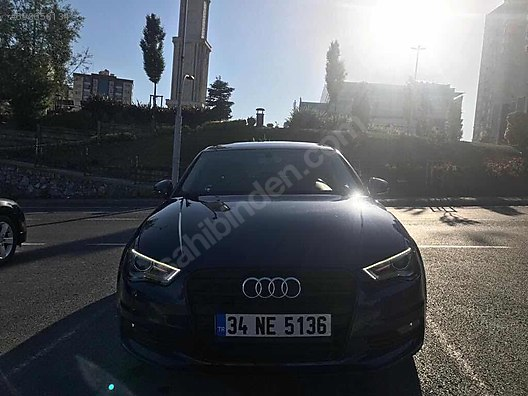audi: (237, 273, 306, 299)
